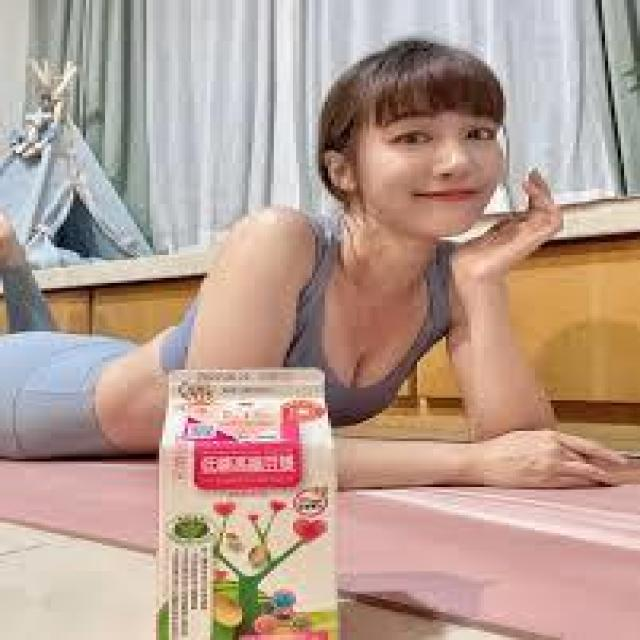TongYi_LowSugarHighFiberSoyMilk: (165, 371, 336, 640)
